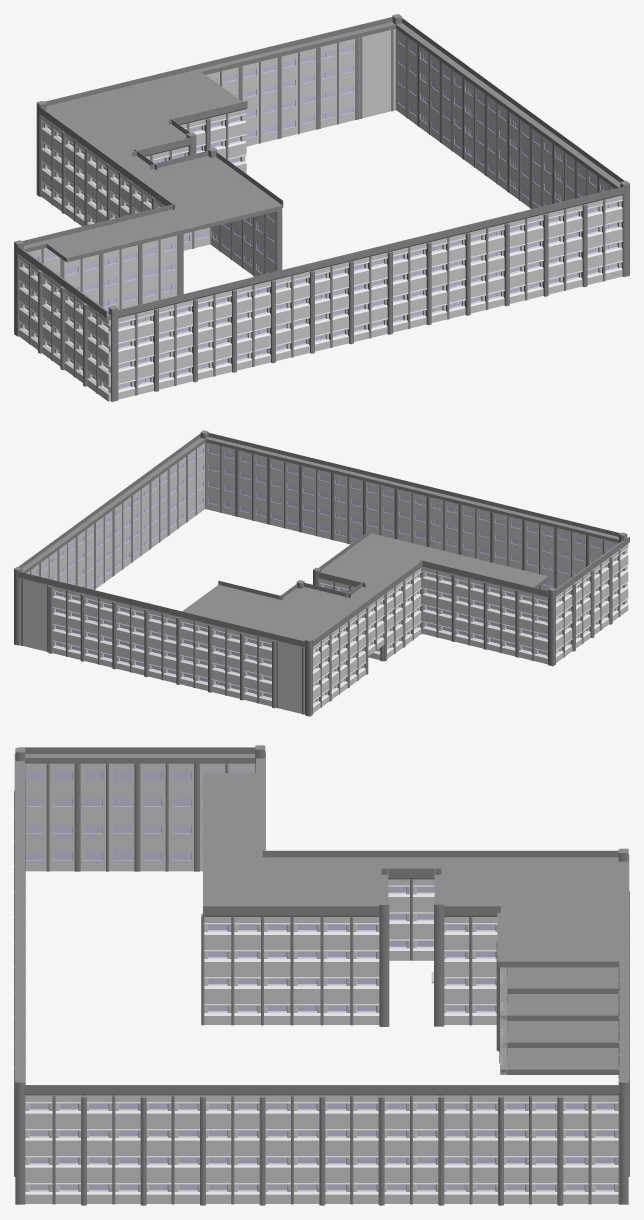
File: Building.fbx
3 views of the same model, one above another, from view 1: azimuth 30°, elevation 25°; view 2: azimuth 150°, elevation 25°; view 3: azimuth 270°, elevation 25° (orthographic). The views are drawn at different scales.
Parts seen in each view (by area): view 1: Plane.716; view 2: Plane.716; view 3: Plane.716.
Boxes of the visible parts, x1,y1,x2,y2 form: Plane.716: (14, 14, 629, 401); Plane.716: (14, 430, 629, 716); Plane.716: (14, 745, 629, 1205).
Size of the model in its own units: 13455 by 2260 by 10343.
